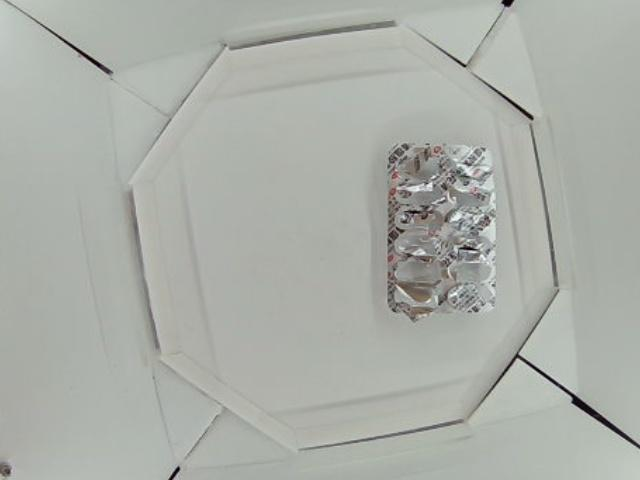Medicine: (387, 139, 500, 318)
